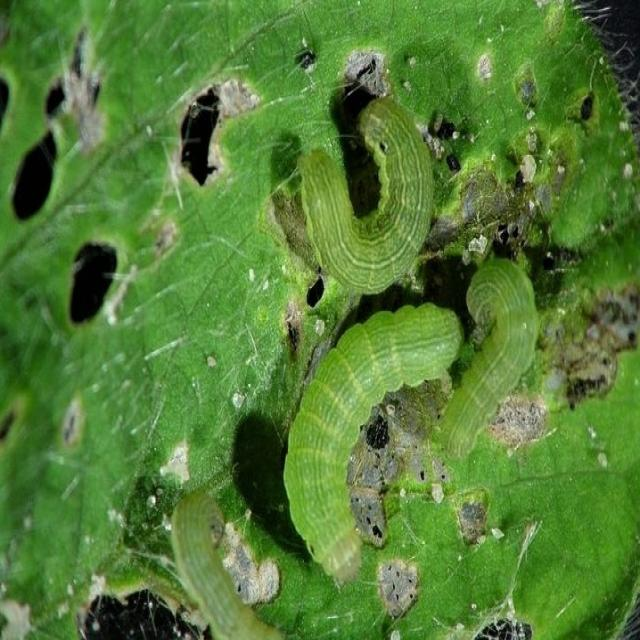armyworm: (282, 310, 456, 579), (298, 98, 441, 302), (459, 239, 545, 463)
